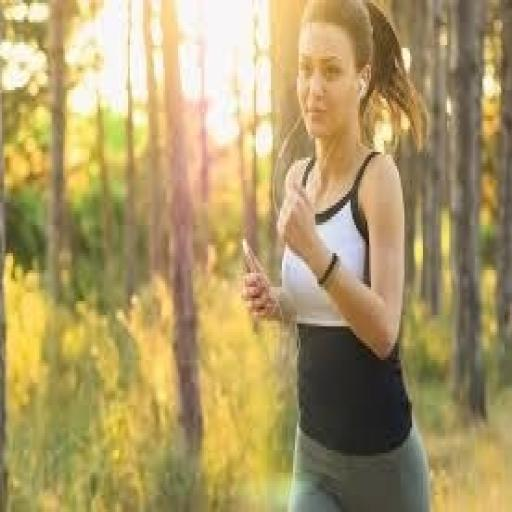running: (239, 0, 434, 509)
